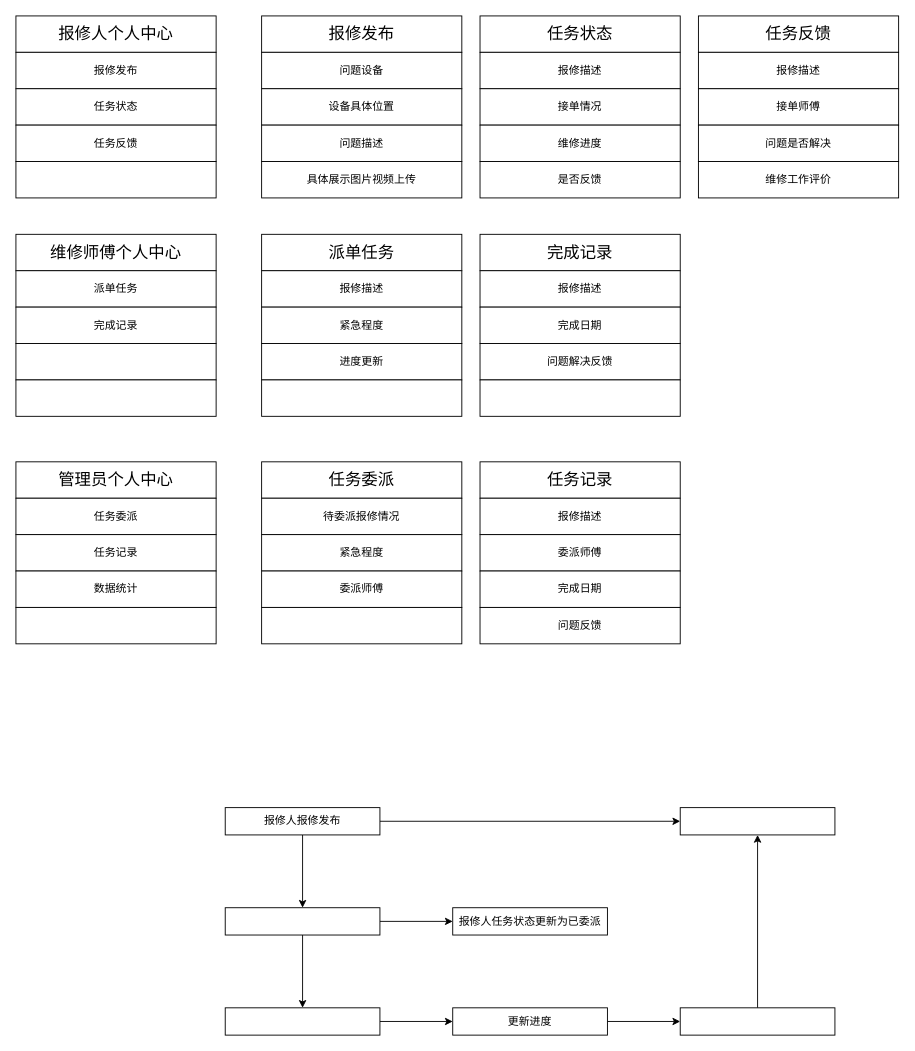
This 915x1051 diagram has some shape labels left out. The centre of each missing label's shape, as x and y in pixels:
完成任务: (757,1021)
报修人可选择反馈: (757,821)
管理员委派任务: (302,921)
维修师傅处理任务: (302,1021)
